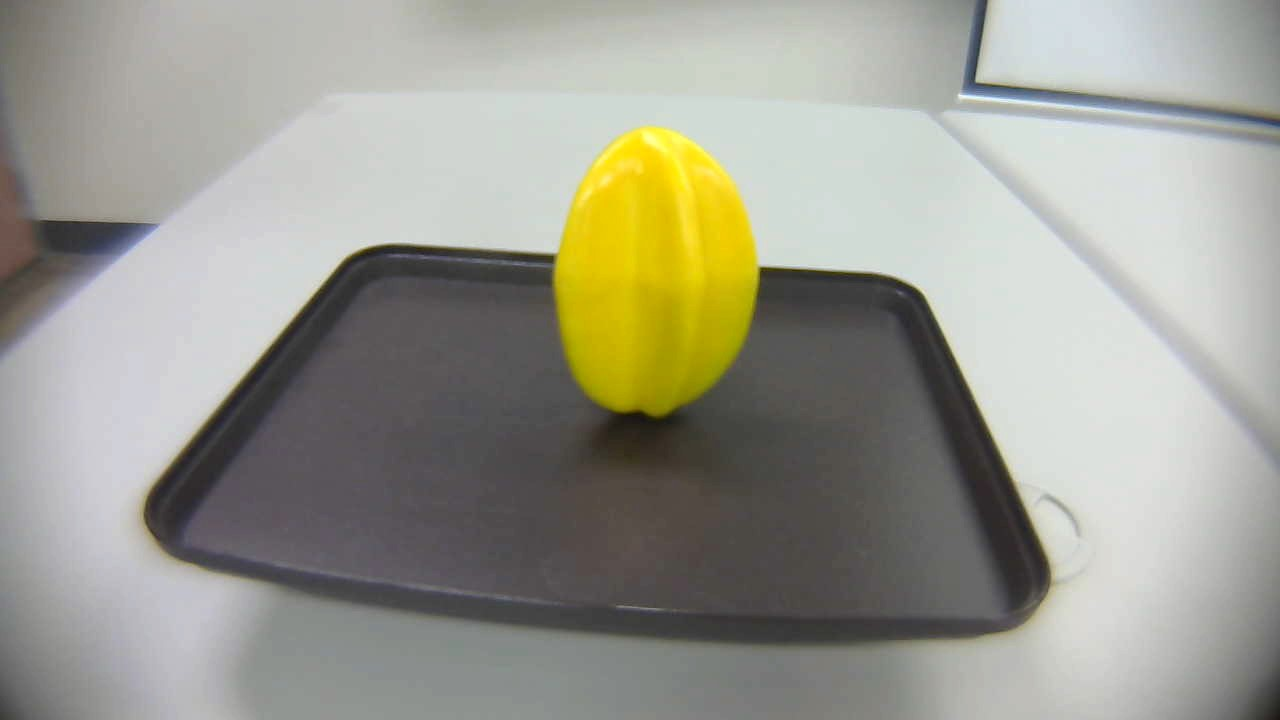star fruit: (538, 121, 781, 442)
